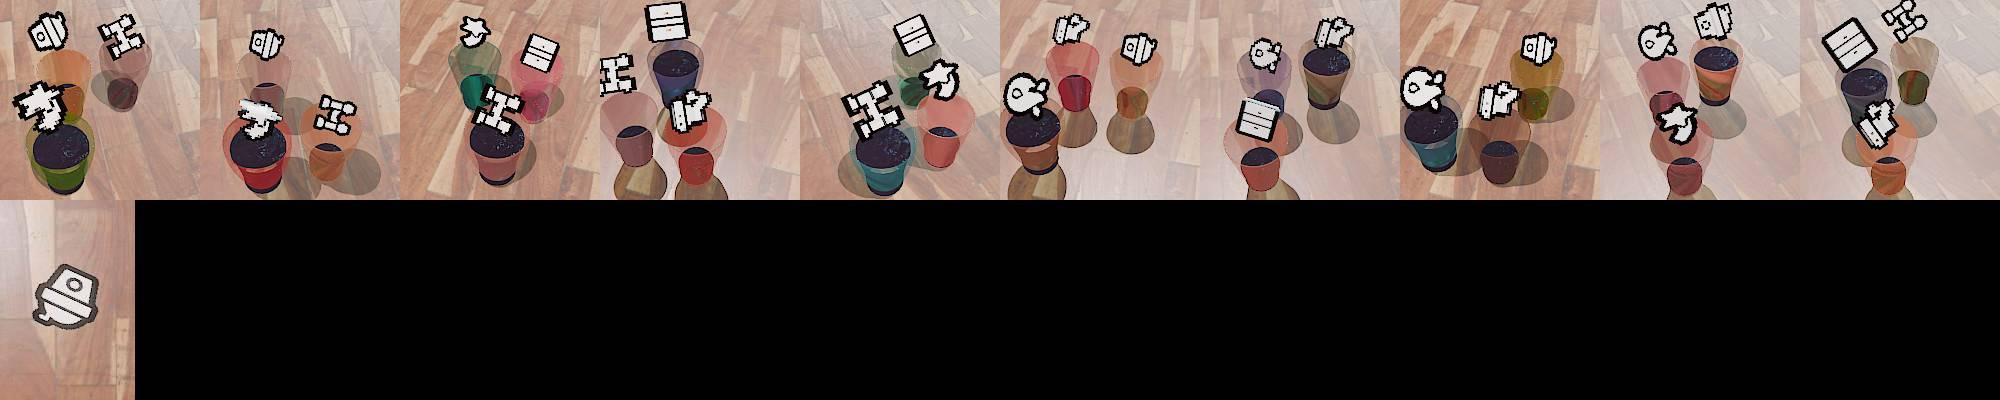icon: (31, 263, 100, 331), (842, 76, 906, 141), (1820, 17, 1879, 74), (11, 79, 71, 131), (475, 80, 523, 130), (1236, 92, 1283, 143), (1855, 98, 1901, 150), (99, 11, 146, 61), (1401, 64, 1449, 112), (666, 86, 713, 134), (235, 96, 285, 141), (1002, 71, 1048, 118), (1655, 99, 1701, 144), (1476, 79, 1522, 123), (1882, 0, 1928, 43), (644, 1, 690, 44), (314, 92, 357, 138), (892, 13, 934, 59), (597, 51, 638, 97), (27, 11, 70, 54), (919, 59, 961, 102), (520, 31, 561, 74), (1692, 1, 1733, 42), (1638, 21, 1679, 61), (1519, 31, 1560, 68), (1313, 16, 1353, 51), (1050, 12, 1090, 47), (1247, 37, 1284, 73), (1120, 32, 1158, 67), (248, 27, 286, 62), (458, 14, 490, 49)
